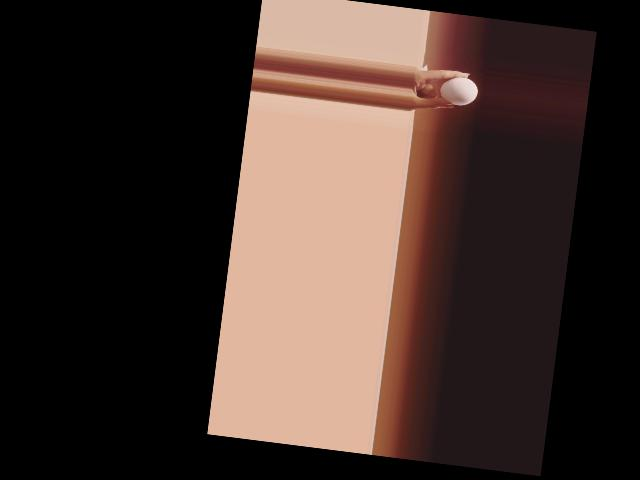egg: (438, 74, 479, 108)
